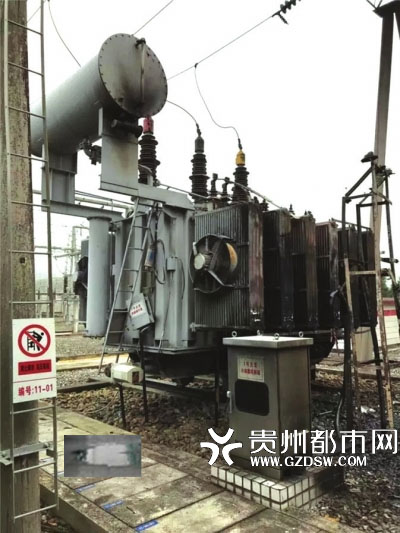oil: (65, 436, 140, 476)
